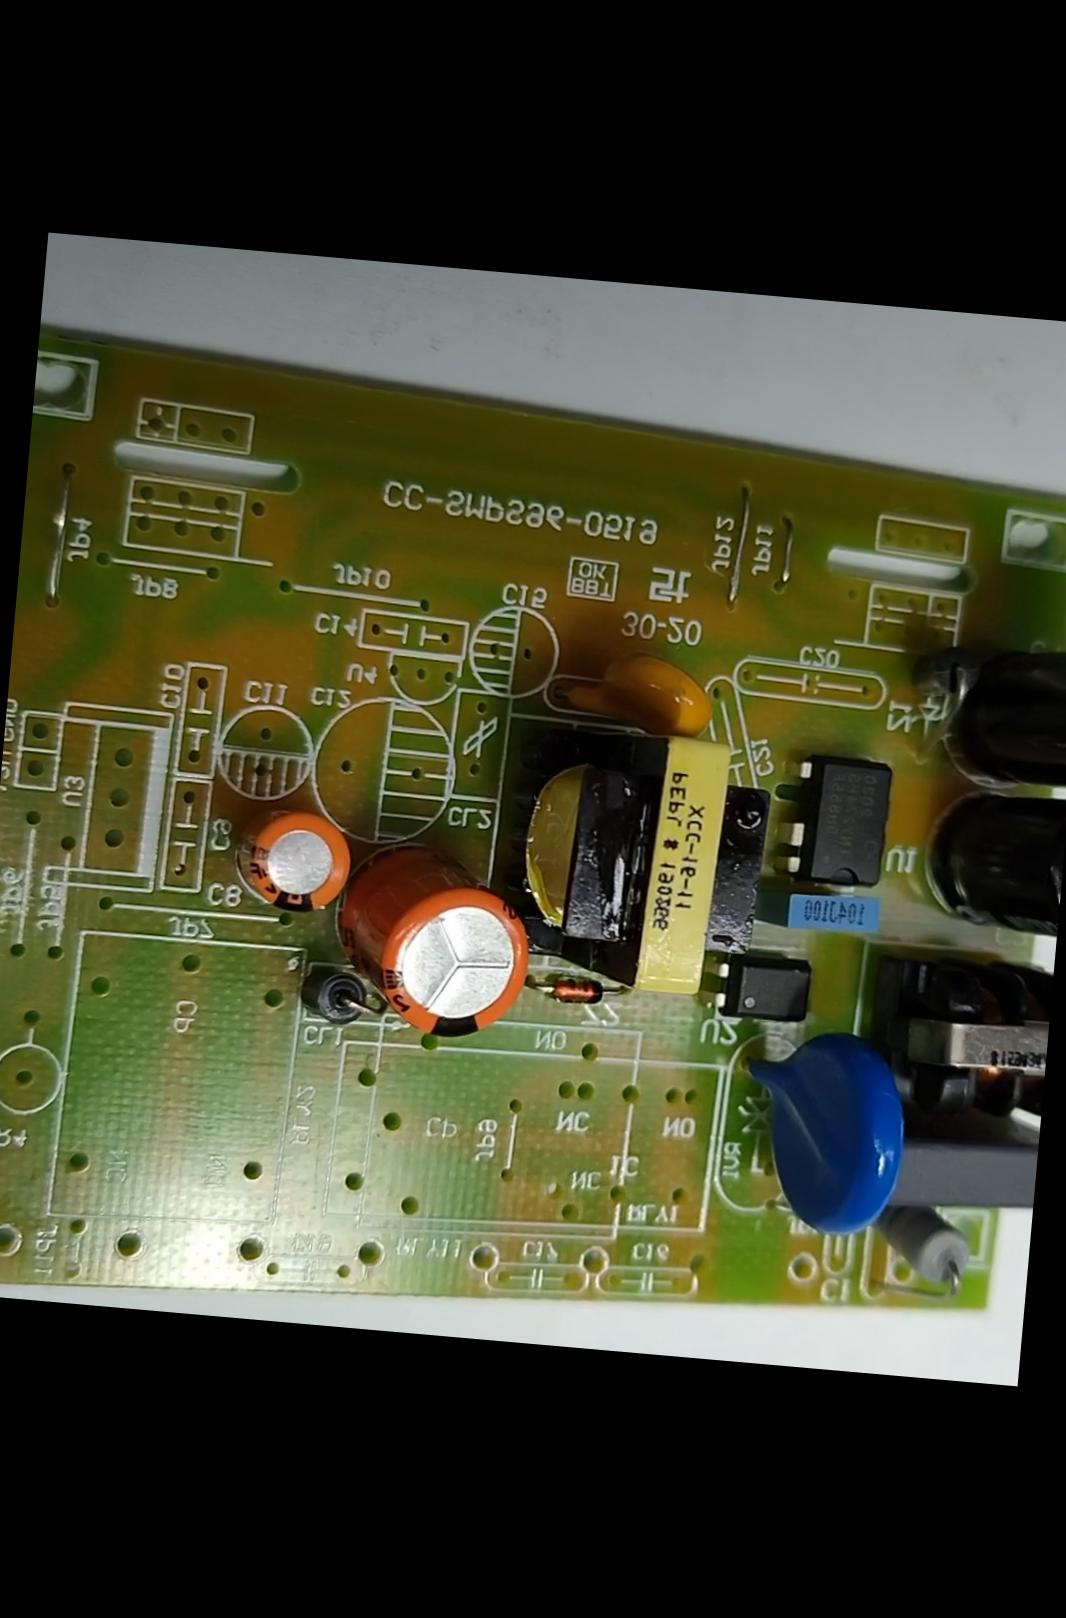Cap1: (326, 841, 538, 1040)
Cap2: (243, 806, 357, 922)
Cap3: (913, 787, 1065, 945)
Cap4: (941, 634, 1065, 791)
MOSFET: (788, 753, 901, 895)
Mov: (736, 1017, 912, 1239)
Resistor: (870, 1202, 982, 1290)
Transformer: (484, 718, 782, 1010), (873, 954, 1053, 1122)
